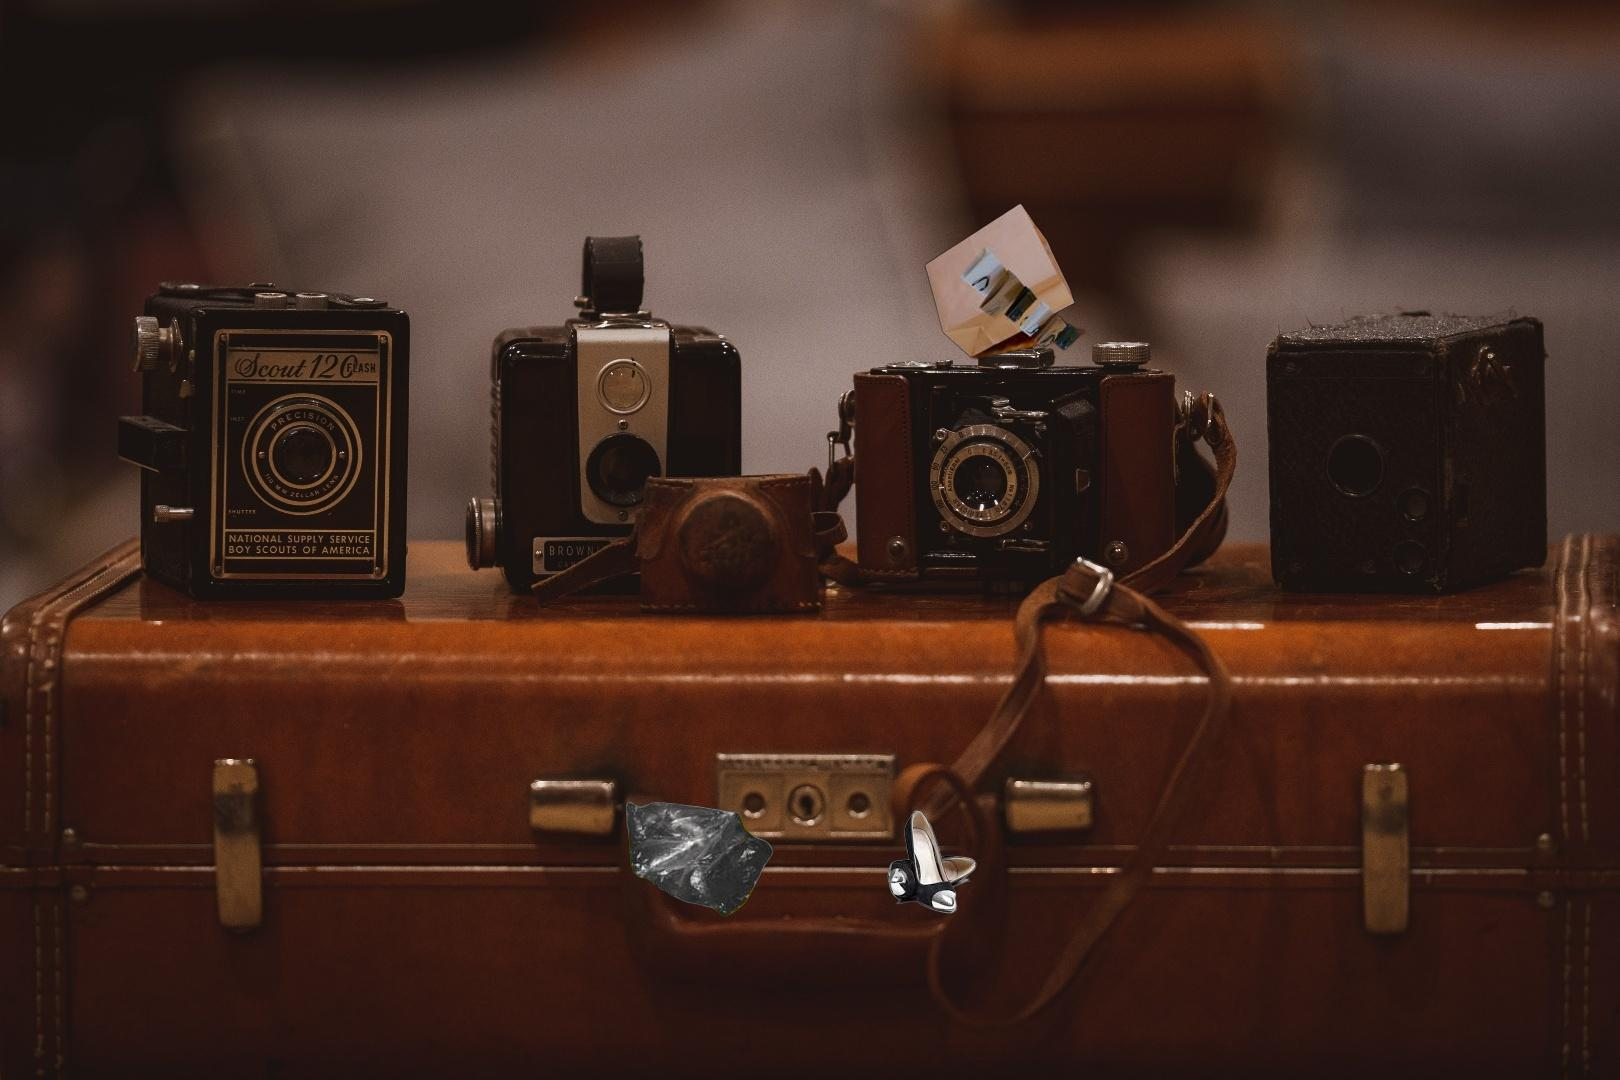paper-bag: (925, 201, 1088, 362)
plastic-bag: (1473, 441, 1620, 708), (623, 798, 776, 920)
shoes: (884, 808, 981, 916)
